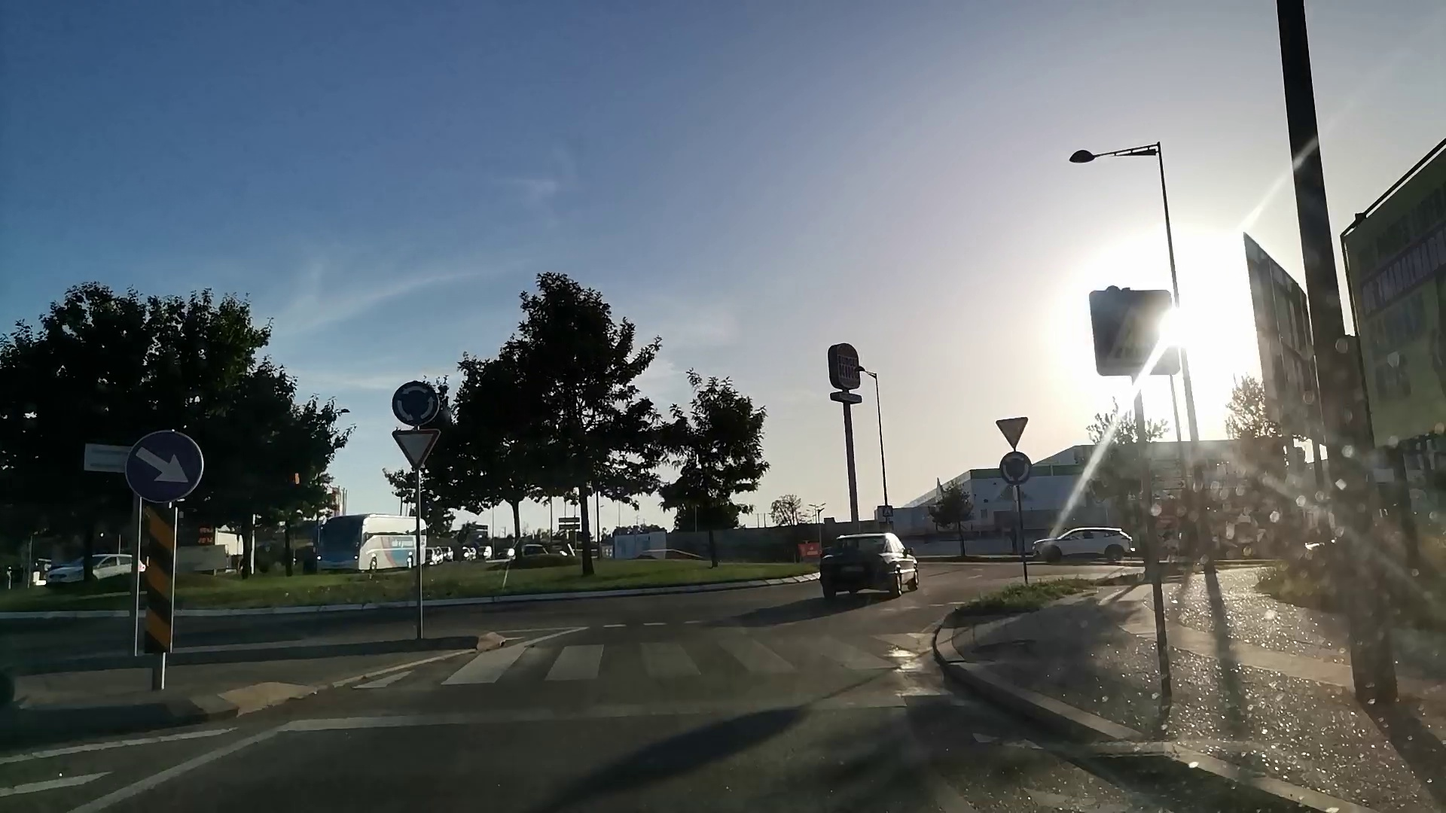Stairs: (471, 628, 947, 722)
